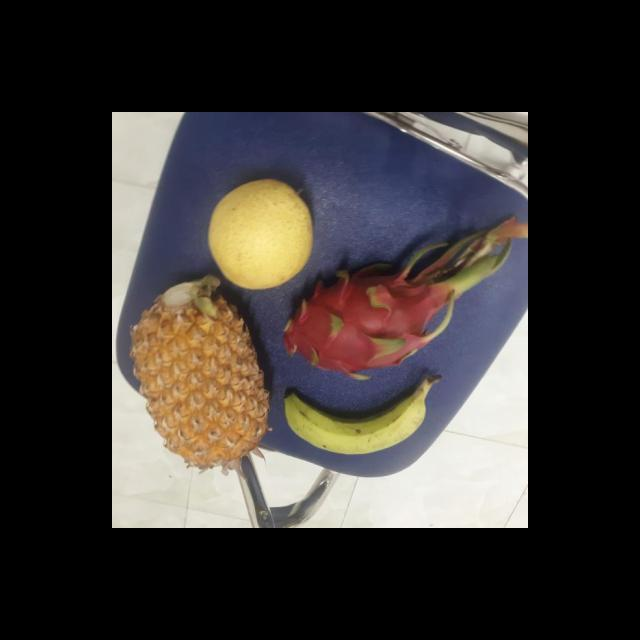banana: (278, 371, 432, 452)
guava: (200, 180, 315, 290)
pineapple: (128, 278, 269, 468)
pitaya: (270, 274, 442, 376)
